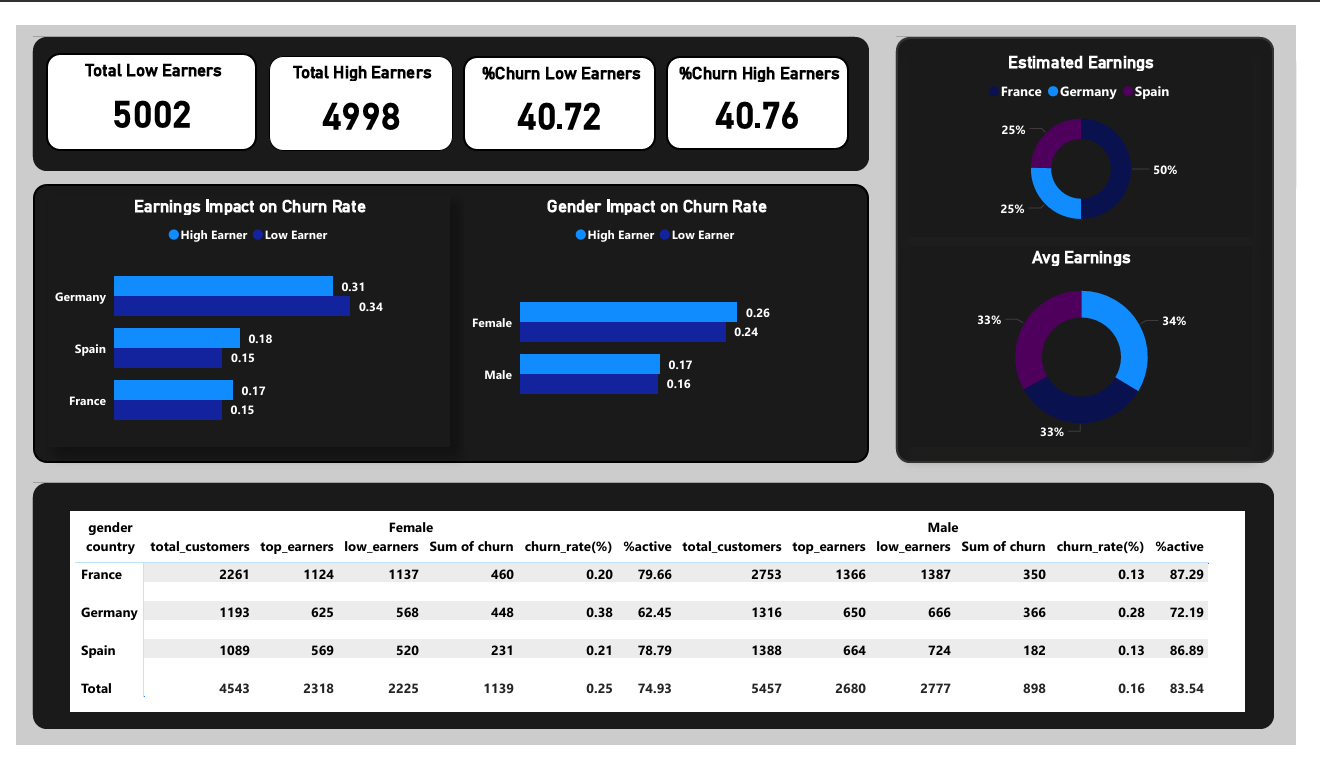

This screenshot's page, from the dashboard's own definition file:
{"tool":"powerbi","page":{"name":"Page 4","canvas":[1280,720],"ordinal":3},"visuals":[{"type":"shape","box":[15.8,457.2,1241.5,245.6],"z":0},{"type":"shape","box":[15.8,11.3,836.4,133.5],"z":1000},{"type":"donutChart","title":"Estimated Earnings","fields":{"Category":["Bank Customer Churn Prediction.country"],"Y":["Sum(Bank Customer Churn Prediction.estimated_salary)"]},"box":[890.7,26,346.3,185.7],"z":1000,"group":"g2"},{"type":"shape","box":[15.8,158.4,836.4,278.4],"z":2000},{"type":"donutChart","title":"Avg Earnings","fields":{"Category":["Bank Customer Churn Prediction.country"],"Y":["Bank Customer Churn Prediction.avg_salary"]},"box":[893.2,220.6,342.6,201.5],"z":2000,"group":"g2"},{"type":"shape","box":[879.4,11.3,378,425.5],"z":3000},{"type":"clusteredBarChart","title":"Earnings Impact on Churn Rate","fields":{"Category":["Bank Customer Churn Prediction.country"],"Series":["Bank Customer Churn Prediction.Earner_category"],"Y":["Bank Customer Churn Prediction.churn_rate(%)"]},"box":[31.7,169.8,401.8,252.4],"z":3000,"group":"g3"},{"type":"card","title":"Total Low Earners","fields":{"Values":["Bank Customer Churn Prediction.low_earners"]},"box":[29,27,211.4,97.7],"z":4000,"group":"g1"},{"type":"clusteredBarChart","title":"Gender Impact on Churn Rate ","fields":{"Category":["Bank Customer Churn Prediction.gender"],"Y":["Bank Customer Churn Prediction.churn_rate(%)"],"Series":["Bank Customer Churn Prediction.Earner_category"]},"box":[447.7,169.8,384.1,252.4],"z":4000,"group":"g3"},{"type":"pivotTable","fields":{"Rows":["Bank Customer Churn Prediction.country"],"Values":["Bank Customer Churn Prediction.total_customers","Bank Customer Churn Prediction.top_earners","Bank Customer Churn Prediction.low_earners","Sum(Bank Customer Churn Prediction.churn)","Bank Customer Churn Prediction.churn_rate(%)","Bank Customer Churn Prediction.%active"],"Columns":["Bank Customer Churn Prediction.gender"]},"box":[54.3,485.5,1174.7,201.5],"z":4000},{"type":"group","id":"g1","title":"Group 1","box":[29,27,802.6,98.1],"z":5000},{"type":"card","title":"Total High Earners","fields":{"Values":["Bank Customer Churn Prediction.top_earners"]},"box":[251.5,30,184.5,95.1],"z":5000,"group":"g1"},{"type":"group","id":"g2","title":"Group 2","box":[890.7,26,346.3,396.1],"z":6000},{"type":"card","title":"%Churn High Earners","fields":{"Values":["Bank Customer Churn Prediction.% churn_high_earners"]},"box":[649.4,29.6,182.2,93.9],"z":6000,"group":"g1"},{"type":"card","title":"%Churn Low Earners","fields":{"Values":["Bank Customer Churn Prediction.% active_high_earners"]},"box":[446.2,30,192.4,95.1],"z":7000,"group":"g1"},{"type":"group","id":"g3","title":"Group 3","box":[31.7,169.8,800.1,252.4],"z":7000}]}

Visuals, with their boxes on the page's 1280x720 design canvas (x1, y1, x2, y2). These are canvas units, not pixel positions in the 1320x770 screenshot, which may show the page scaled, cropped or inside an application window:
shape: {"x1": 16, "y1": 457, "x2": 1257, "y2": 703}
shape: {"x1": 16, "y1": 11, "x2": 852, "y2": 145}
"Estimated Earnings" donutChart: {"x1": 891, "y1": 26, "x2": 1237, "y2": 212}
shape: {"x1": 16, "y1": 158, "x2": 852, "y2": 437}
"Avg Earnings" donutChart: {"x1": 893, "y1": 221, "x2": 1236, "y2": 422}
shape: {"x1": 879, "y1": 11, "x2": 1257, "y2": 437}
"Earnings Impact on Churn Rate" clusteredBarChart: {"x1": 32, "y1": 170, "x2": 434, "y2": 422}
"Total Low Earners" card: {"x1": 29, "y1": 27, "x2": 240, "y2": 125}
"Gender Impact on Churn Rate " clusteredBarChart: {"x1": 448, "y1": 170, "x2": 832, "y2": 422}
pivotTable - Bank Customer Churn Prediction.country x Bank Customer Churn Prediction.total_customers: {"x1": 54, "y1": 486, "x2": 1229, "y2": 687}
"Group 1" group: {"x1": 29, "y1": 27, "x2": 832, "y2": 125}
"Total High Earners" card: {"x1": 252, "y1": 30, "x2": 436, "y2": 125}
"Group 2" group: {"x1": 891, "y1": 26, "x2": 1237, "y2": 422}
"%Churn High Earners" card: {"x1": 649, "y1": 30, "x2": 832, "y2": 124}
"%Churn Low Earners" card: {"x1": 446, "y1": 30, "x2": 639, "y2": 125}
"Group 3" group: {"x1": 32, "y1": 170, "x2": 832, "y2": 422}
